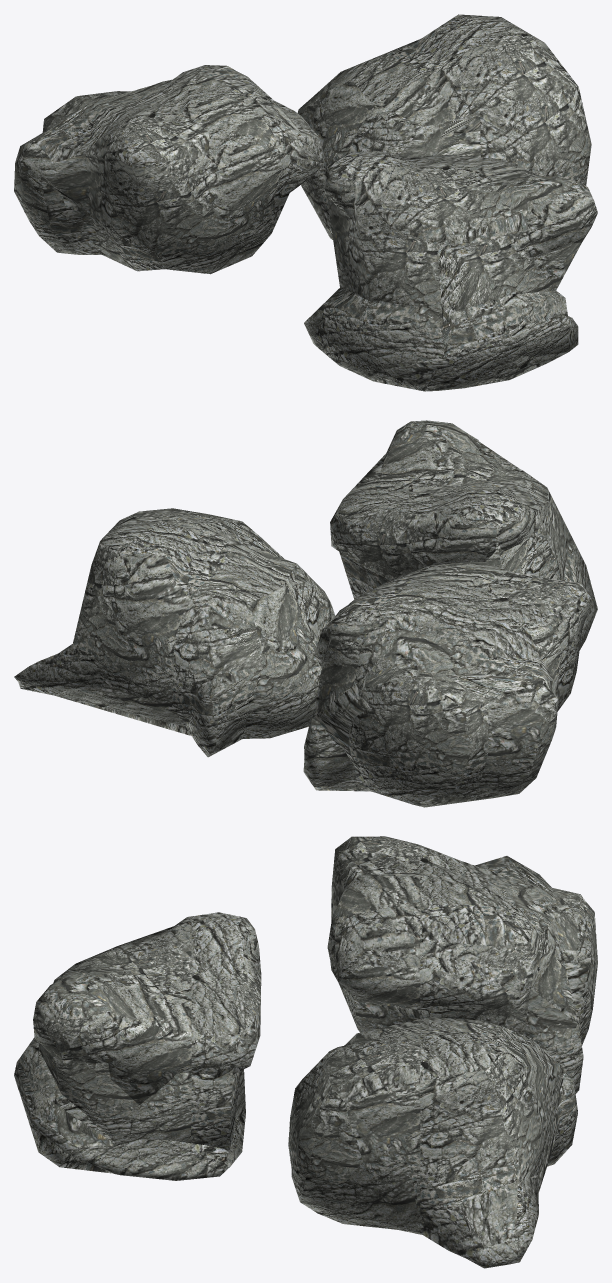
The model's file is ThreeStones01.FBX.
3 renders of one model, top to bottom at view 1: azimuth 30°, elevation 25°; view 2: azimuth 150°, elevation 25°; view 3: azimuth 270°, elevation 25°, orthographic. The views are drawn at different scales.
Parts seen in each view (by area): view 1: ThreeStones512, ThreeStones128, ThreeStones256; view 2: ThreeStones512, ThreeStones256, ThreeStones128; view 3: ThreeStones512, ThreeStones128, ThreeStones256.
Part boxes in pixels (x1,y1,x2,y2): ThreeStones512: (14, 14, 597, 391); ThreeStones128: (85, 46, 581, 390); ThreeStones256: (14, 33, 597, 391); ThreeStones512: (14, 420, 597, 807); ThreeStones256: (17, 443, 585, 806); ThreeStones128: (54, 439, 581, 782); ThreeStones512: (14, 836, 597, 1268); ThreeStones128: (38, 849, 591, 1231); ThreeStones256: (14, 836, 578, 1267).
Bounding box in the file's own units: 52.32 × 17.21 × 45.98.
